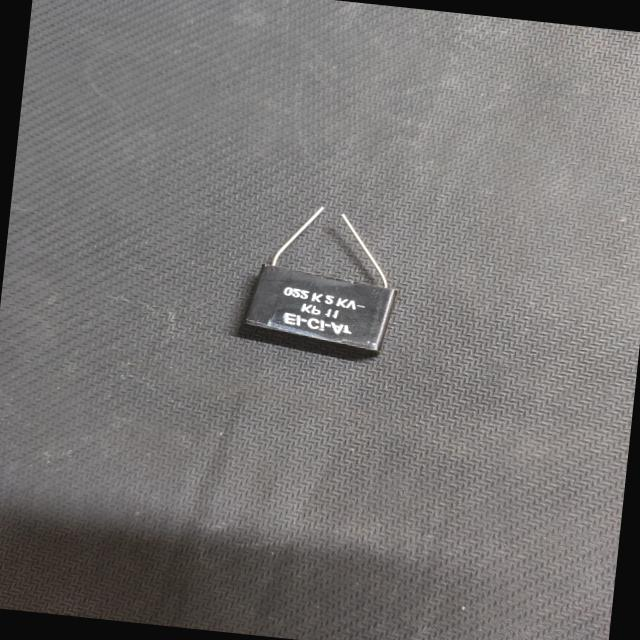capacitor: (228, 194, 412, 368)
